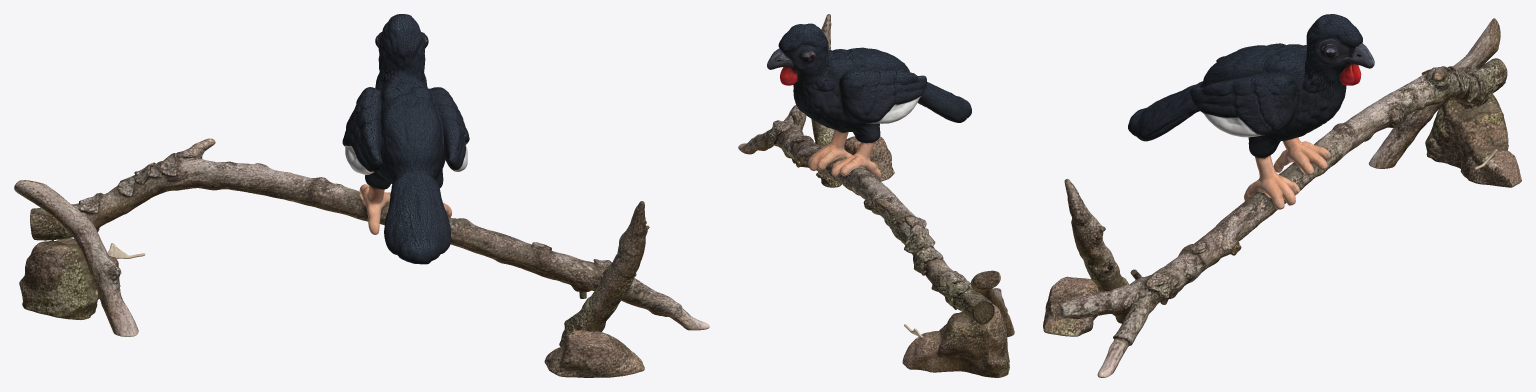
The model's file is peluche_pequeno_de_pava_aliblanca.glb.
3 views of the same model, side by side, from view 1: azimuth 30°, elevation 25°; view 2: azimuth 150°, elevation 25°; view 3: azimuth 270°, elevation 25° (orthographic). The views are drawn at different scales.
Visible parts, largest first — view 1: tripo_node_b6201c21-cb26-4dfc-81ac-ef96a87efd58; view 2: tripo_node_b6201c21-cb26-4dfc-81ac-ef96a87efd58; view 3: tripo_node_b6201c21-cb26-4dfc-81ac-ef96a87efd58.
Boxes of the visible parts, <box> form: tripo_node_b6201c21-cb26-4dfc-81ac-ef96a87efd58: <box>14,14,709,377</box>; tripo_node_b6201c21-cb26-4dfc-81ac-ef96a87efd58: <box>738,14,1014,377</box>; tripo_node_b6201c21-cb26-4dfc-81ac-ef96a87efd58: <box>1043,14,1521,377</box>.
Bounding box in the file's own units: 32767 × 17118 × 27555.
Materials: 1 (1 with a texture image).
